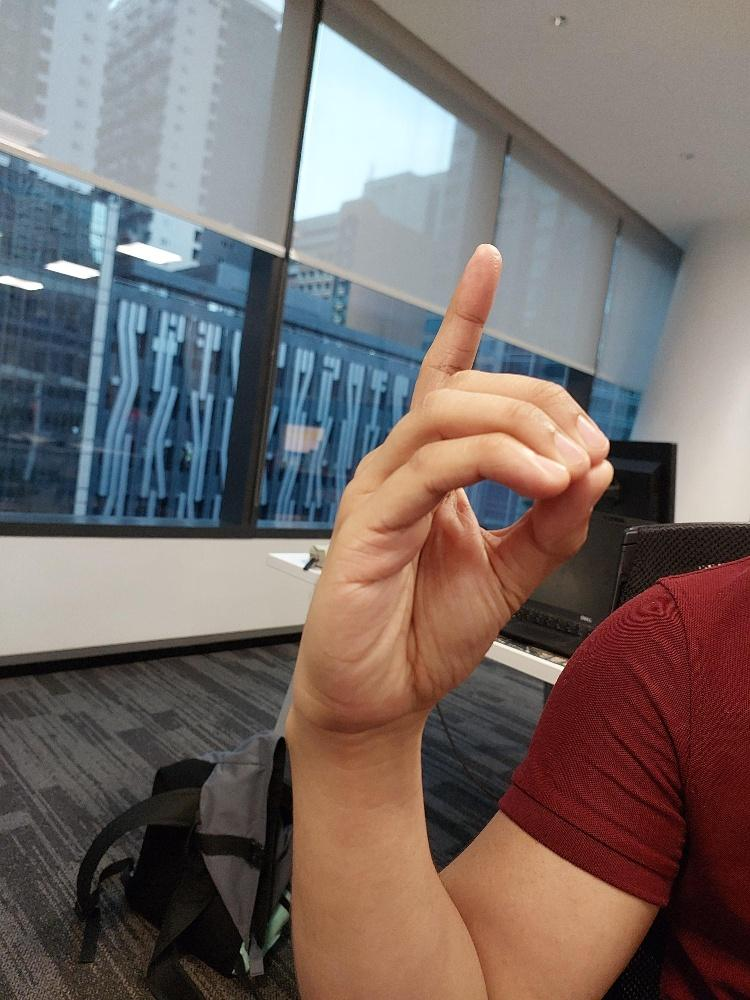d: (286, 240, 614, 730)
